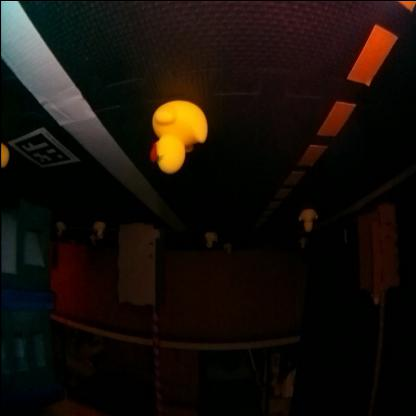Duckie: (151, 102, 207, 172), (298, 207, 318, 232), (204, 232, 217, 248), (94, 223, 106, 238), (56, 222, 66, 236), (224, 243, 232, 253), (300, 240, 306, 248)
QR code: (9, 132, 76, 168)
